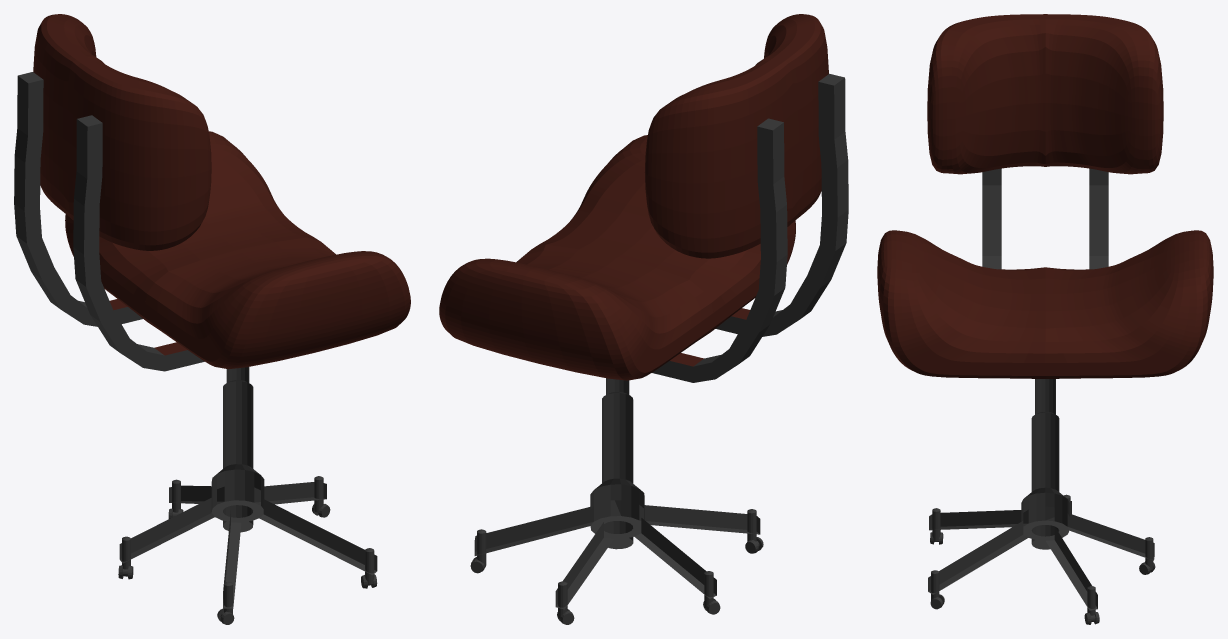
File: Fur_office_Chair_O2_V3.fbx
The picture shows the model from 3 angles, left to right: view 1: azimuth 30°, elevation 25°; view 2: azimuth 150°, elevation 25°; view 3: azimuth 270°, elevation 25°; orthographic projection. The views are drawn at different scales.
Parts seen in each view (by area): view 1: Plane; view 2: Plane; view 3: Plane.
Part boxes in pixels (x1=…): Plane: x1=14, y1=14, x2=410, y2=624; Plane: x1=439, y1=14, x2=848, y2=624; Plane: x1=877, y1=14, x2=1213, y2=624.
Size of the model in its own units: 420 by 714 by 444.
